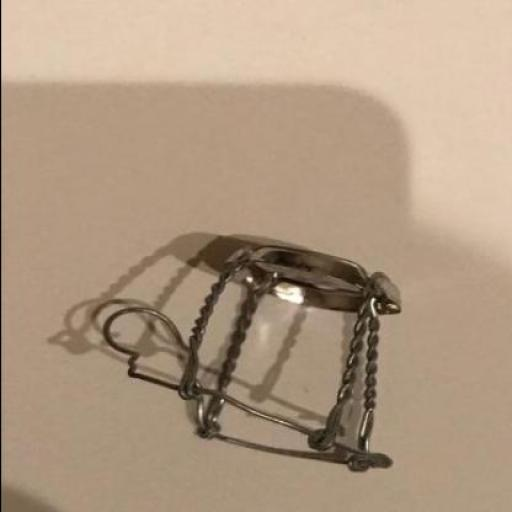metal: (106, 244, 401, 472)
